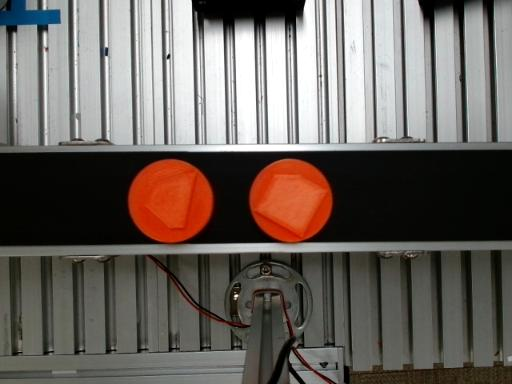Not_Square: (254, 174, 328, 238), (143, 170, 196, 226)
Orange_Waper: (249, 158, 333, 242), (129, 159, 214, 242)
